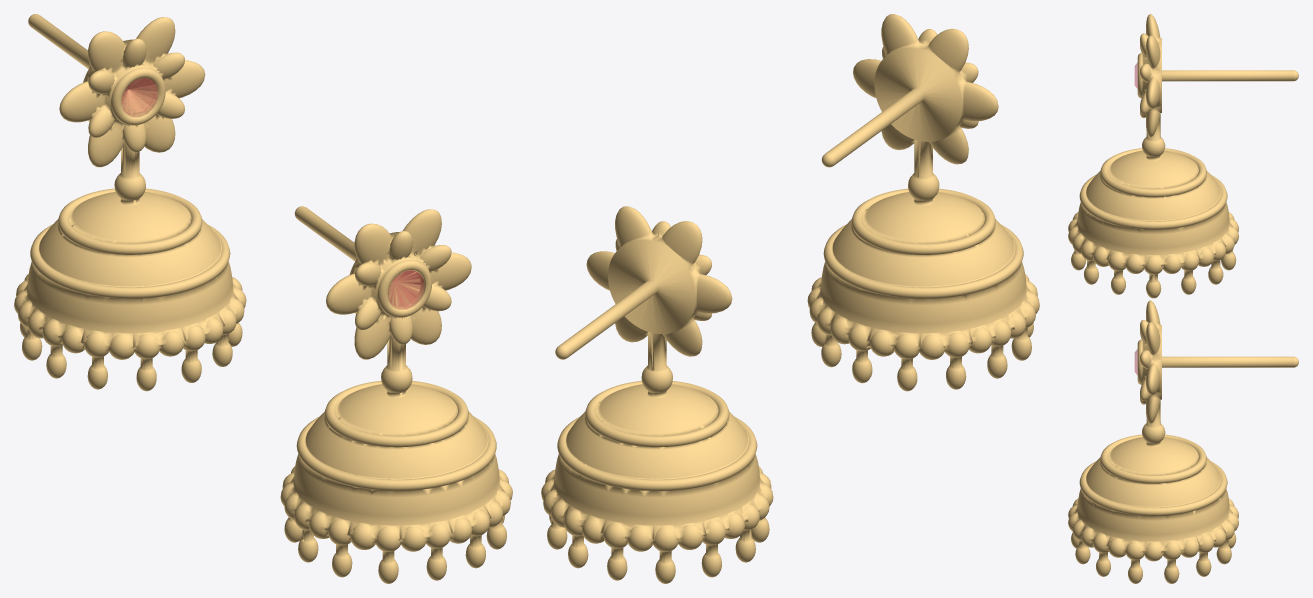
Rendered from earring_jhumka.glb.
3 renders of one model, left to right at view 1: azimuth 30°, elevation 25°; view 2: azimuth 150°, elevation 25°; view 3: azimuth 270°, elevation 25°, orthographic. The views are drawn at different scales.
Visible parts, largest first — view 1: gold, gold_pair, top_stone_pair, top_stone; view 2: gold_pair, gold; view 3: gold, gold_pair.
Boxes of the visible parts, x1,y1,x2,y2 form: gold: (14, 14, 246, 391); gold_pair: (280, 206, 512, 583); top_stone_pair: (388, 270, 424, 309); top_stone: (122, 78, 157, 116); gold_pair: (541, 206, 773, 583); gold: (807, 14, 1039, 391); gold: (1068, 14, 1298, 298); gold_pair: (1068, 300, 1298, 583).
Size of the model in its own units: 0.0289 by 0.0343 by 0.0167.
